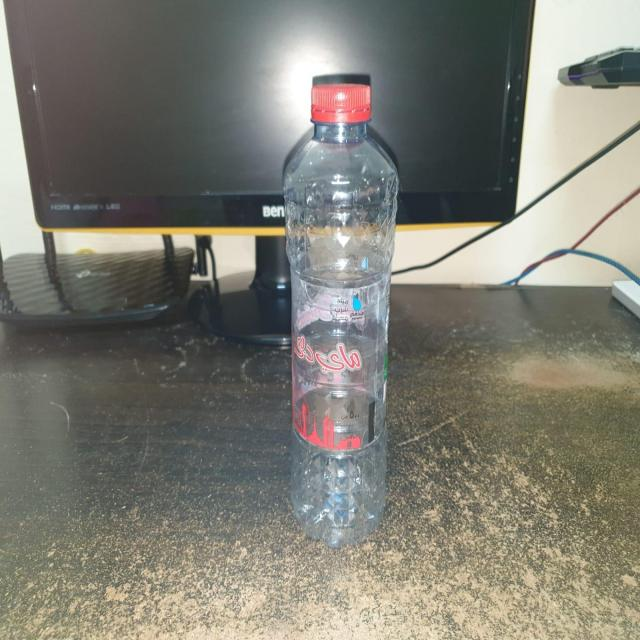bottle: (269, 74, 401, 555)
